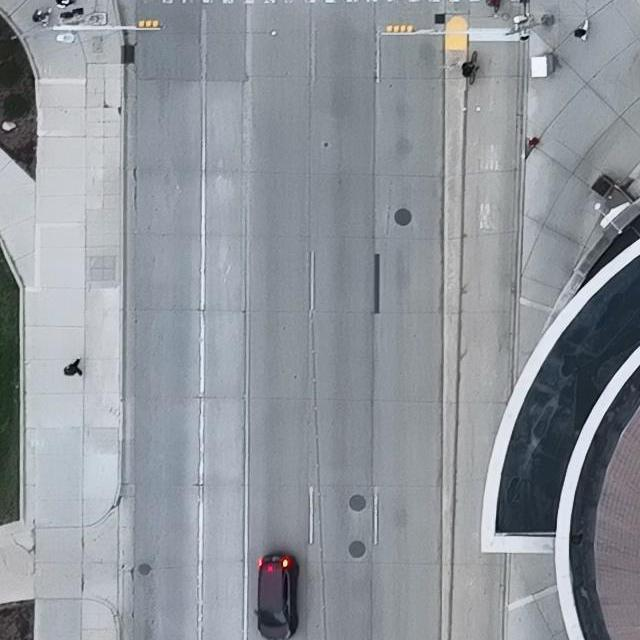car: (253, 552, 299, 640)
